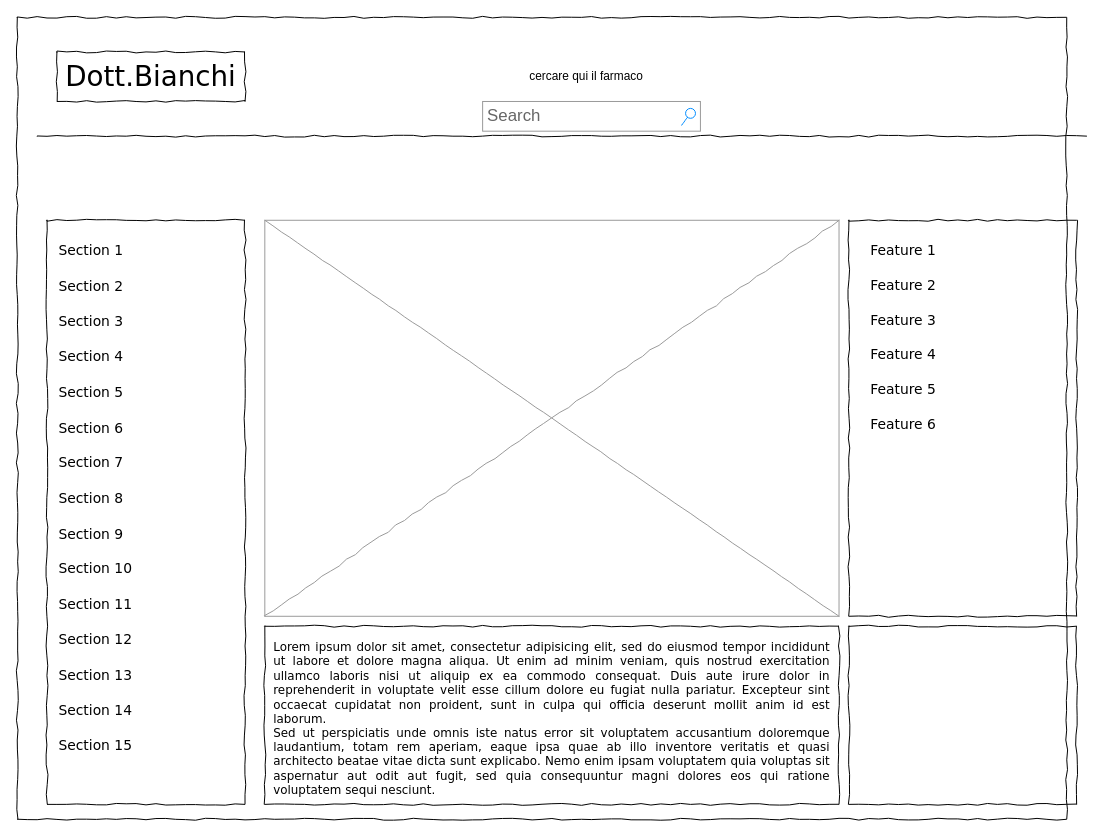
The diagram is 1104 pixels wide and 837 high, and some of its shapes have lost their labels. Each missing label, with the box of its shape:
External Links: (848, 625, 1077, 804)
Text: (264, 219, 839, 616)
